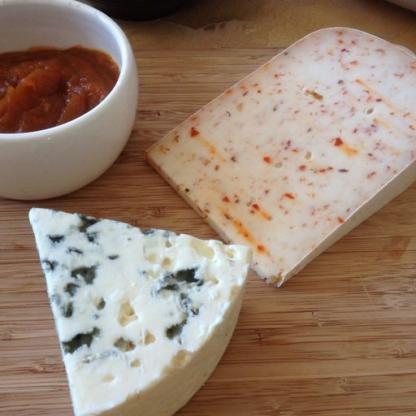cheese: (159, 34, 415, 258), (28, 199, 248, 415)
